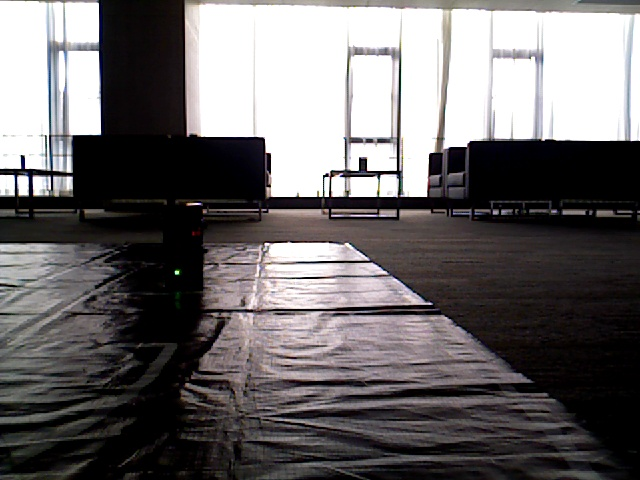green: (162, 210, 201, 291)
